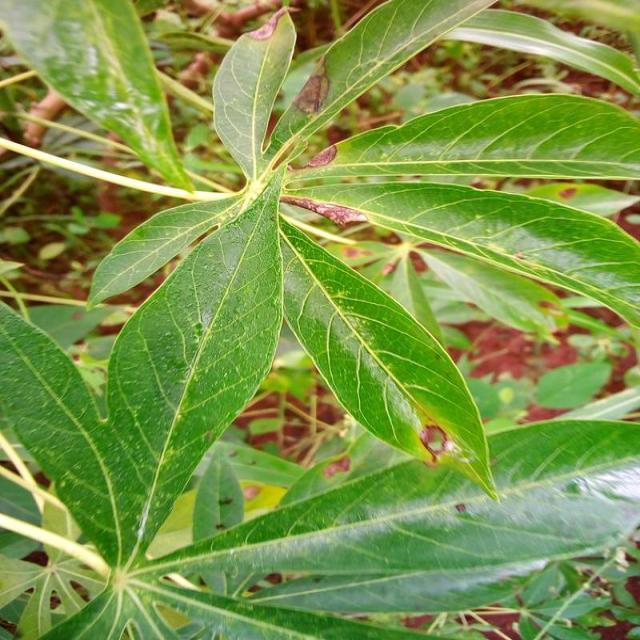cassava leaf: (1, 1, 638, 635), (104, 163, 286, 558), (278, 210, 499, 504)
